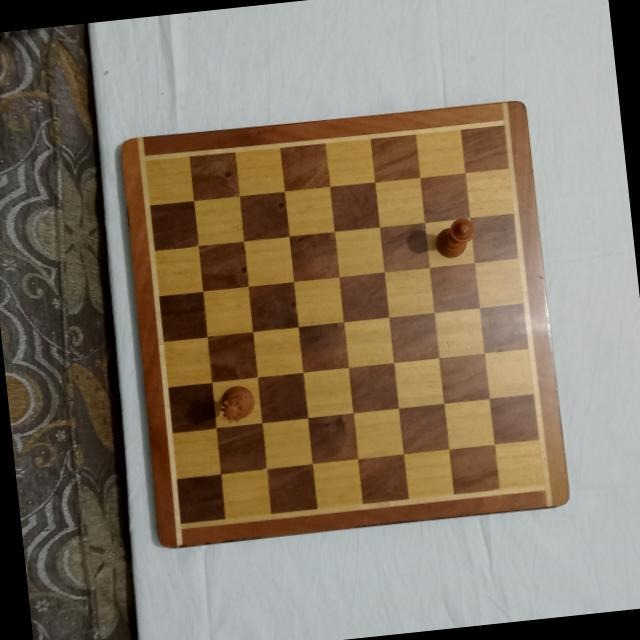white-king: (430, 215, 478, 261)
white-queen: (212, 382, 255, 424)
